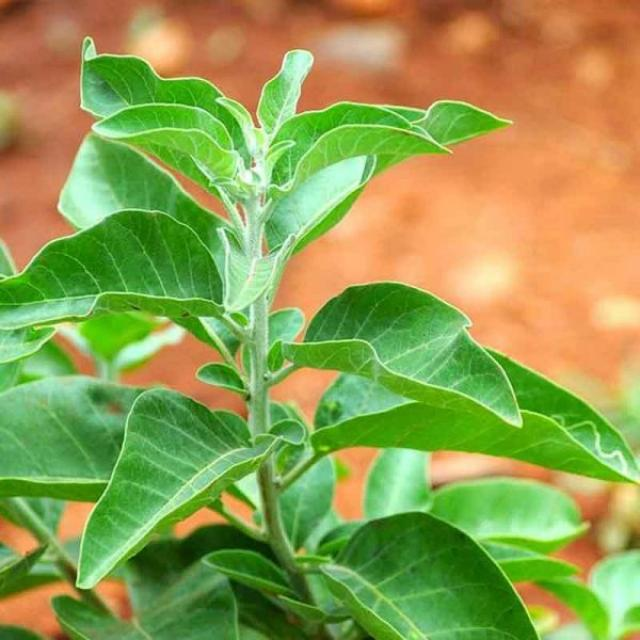Ashwagandha: (0, 273, 551, 607), (24, 72, 399, 313)
